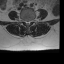CCS_stenosis: (26, 19, 28, 26)
LFS_normal: (30, 17, 32, 24)
LLS_normal: (28, 19, 30, 25)
RFS_normal: (23, 17, 25, 23)
RLS_normal: (25, 18, 26, 25)
